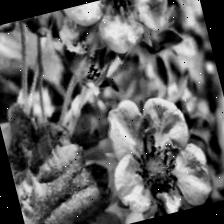Blossom Blight: (122, 124, 194, 211), (96, 0, 148, 26)
